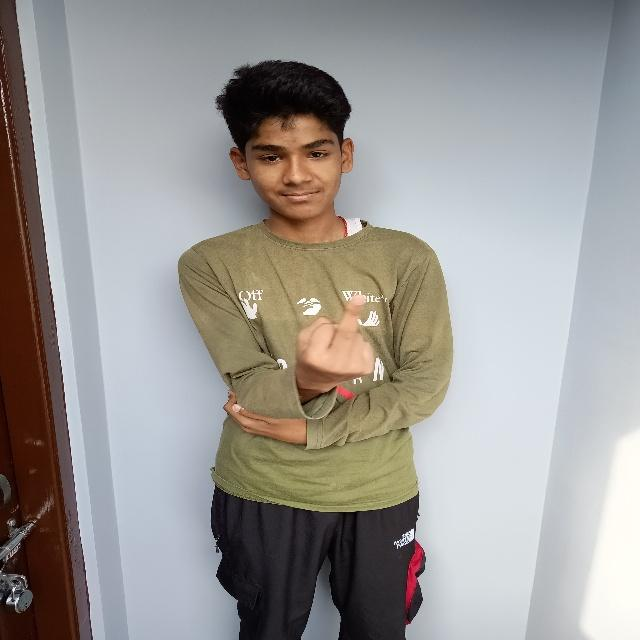Middle Finger: (290, 284, 385, 396)
